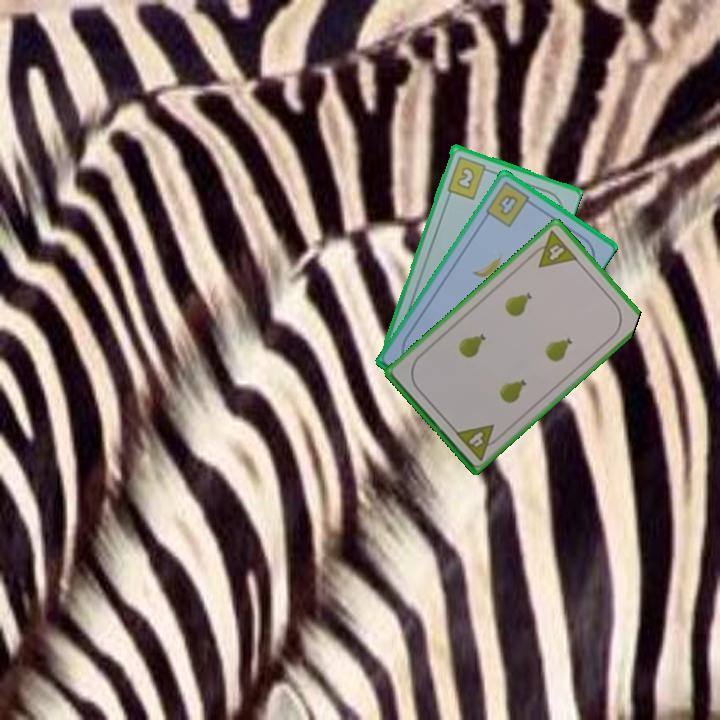2b: (443, 152, 494, 202)
4b: (481, 178, 537, 230)
4p: (526, 227, 581, 270), (451, 420, 505, 463)
